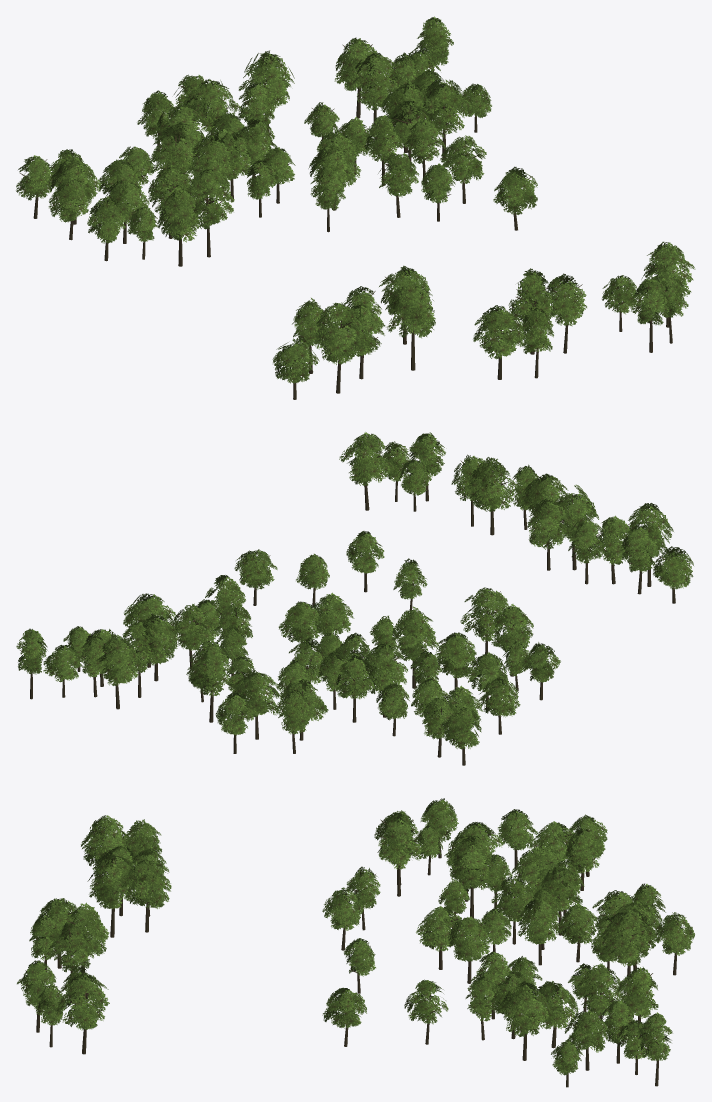
File: TRB8-FOREST-CHUNK-8-2.glb
3 views of the same model, one above another, from view 1: azimuth 30°, elevation 25°; view 2: azimuth 150°, elevation 25°; view 3: azimuth 270°, elevation 25° (orthographic). The views are drawn at different scales.
Visible parts, largest first — view 1: TRB8-FOREST-CHUNK-8-2; view 2: TRB8-FOREST-CHUNK-8-2; view 3: TRB8-FOREST-CHUNK-8-2.
Boxes of the visible parts, x1,y1,x2,y2 form: TRB8-FOREST-CHUNK-8-2: [16, 16, 695, 399]; TRB8-FOREST-CHUNK-8-2: [16, 432, 693, 765]; TRB8-FOREST-CHUNK-8-2: [17, 798, 694, 1087].
Size of the model in its own units: 33.1 by 7.52 by 42.83.
2 materials, 1 textured.
